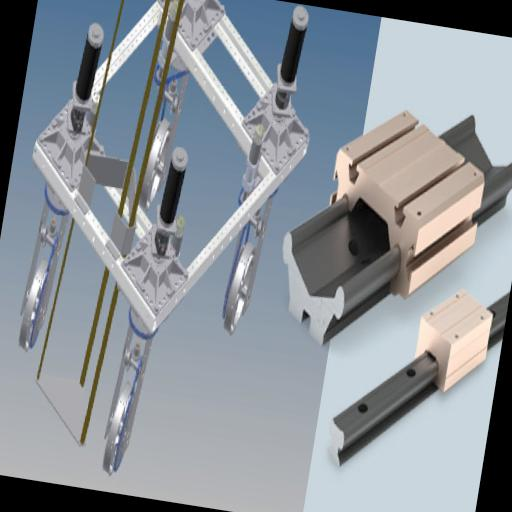robot: (0, 0, 329, 490)
